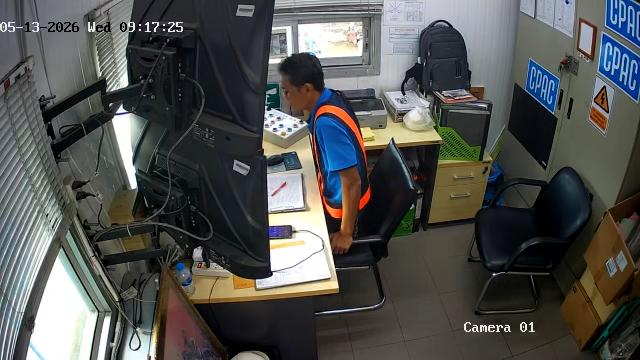Head: (279, 53, 325, 111)
People: (279, 53, 371, 254)
Phone: (268, 225, 293, 239)
